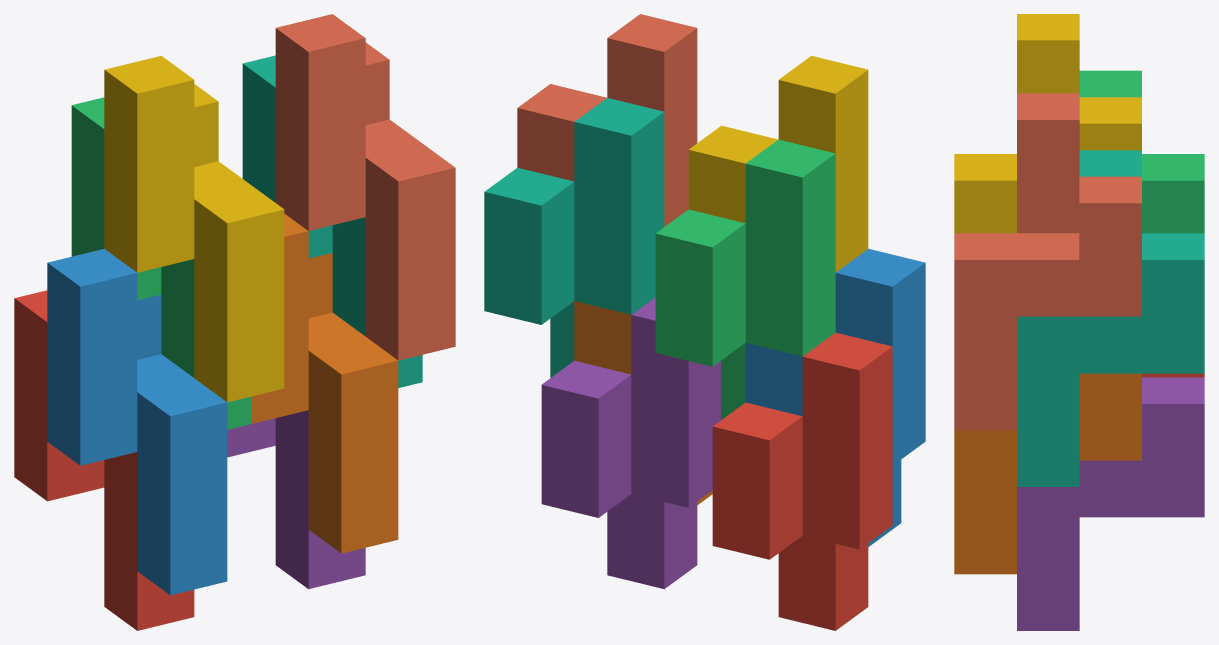
Rendered from tiling.obj.
3 renders of one model, left to right at view 1: azimuth 30°, elevation 25°; view 2: azimuth 150°, elevation 25°; view 3: azimuth 270°, elevation 25°, orthographic. The views are drawn at different scales.
Visible parts, largest first — view 1: copy_1_domain_4, copy_1_domain_8, copy_1_domain_2, copy_1_domain_6, copy_1_domain_1, copy_1_domain_3, copy_1_domain_7, copy_1_domain_5; view 2: copy_1_domain_1, copy_1_domain_5, copy_1_domain_3, copy_1_domain_7, copy_1_domain_4, copy_1_domain_8, copy_1_domain_2, copy_1_domain_6; view 3: copy_1_domain_8, copy_1_domain_7, copy_1_domain_5, copy_1_domain_6, copy_1_domain_4, copy_1_domain_3.
Part boxes in pixels (box(x1,y1,x2,y2)): copy_1_domain_4: box(104, 55, 284, 402); copy_1_domain_8: box(275, 14, 455, 360); copy_1_domain_2: box(47, 248, 227, 595); copy_1_domain_6: box(251, 213, 398, 553); copy_1_domain_1: box(14, 290, 194, 630); copy_1_domain_3: box(71, 97, 251, 429); copy_1_domain_7: box(242, 55, 422, 387); copy_1_domain_5: box(227, 410, 365, 589); copy_1_domain_1: box(712, 332, 892, 630); copy_1_domain_5: box(541, 297, 721, 589); copy_1_domain_3: box(655, 139, 835, 419); copy_1_domain_7: box(484, 98, 664, 377); copy_1_domain_4: box(688, 56, 868, 272); copy_1_domain_8: box(517, 14, 697, 226); copy_1_domain_2: box(745, 248, 925, 546); copy_1_domain_6: box(574, 301, 712, 504); copy_1_domain_8: box(954, 93, 1141, 430); copy_1_domain_7: box(1017, 150, 1204, 486); copy_1_domain_5: box(1017, 377, 1204, 630); copy_1_domain_6: box(954, 373, 1141, 574); copy_1_domain_4: box(954, 14, 1141, 233); copy_1_domain_3: box(1079, 70, 1204, 233).
Bounding box in the file's own units: 6 × 9 × 4.
